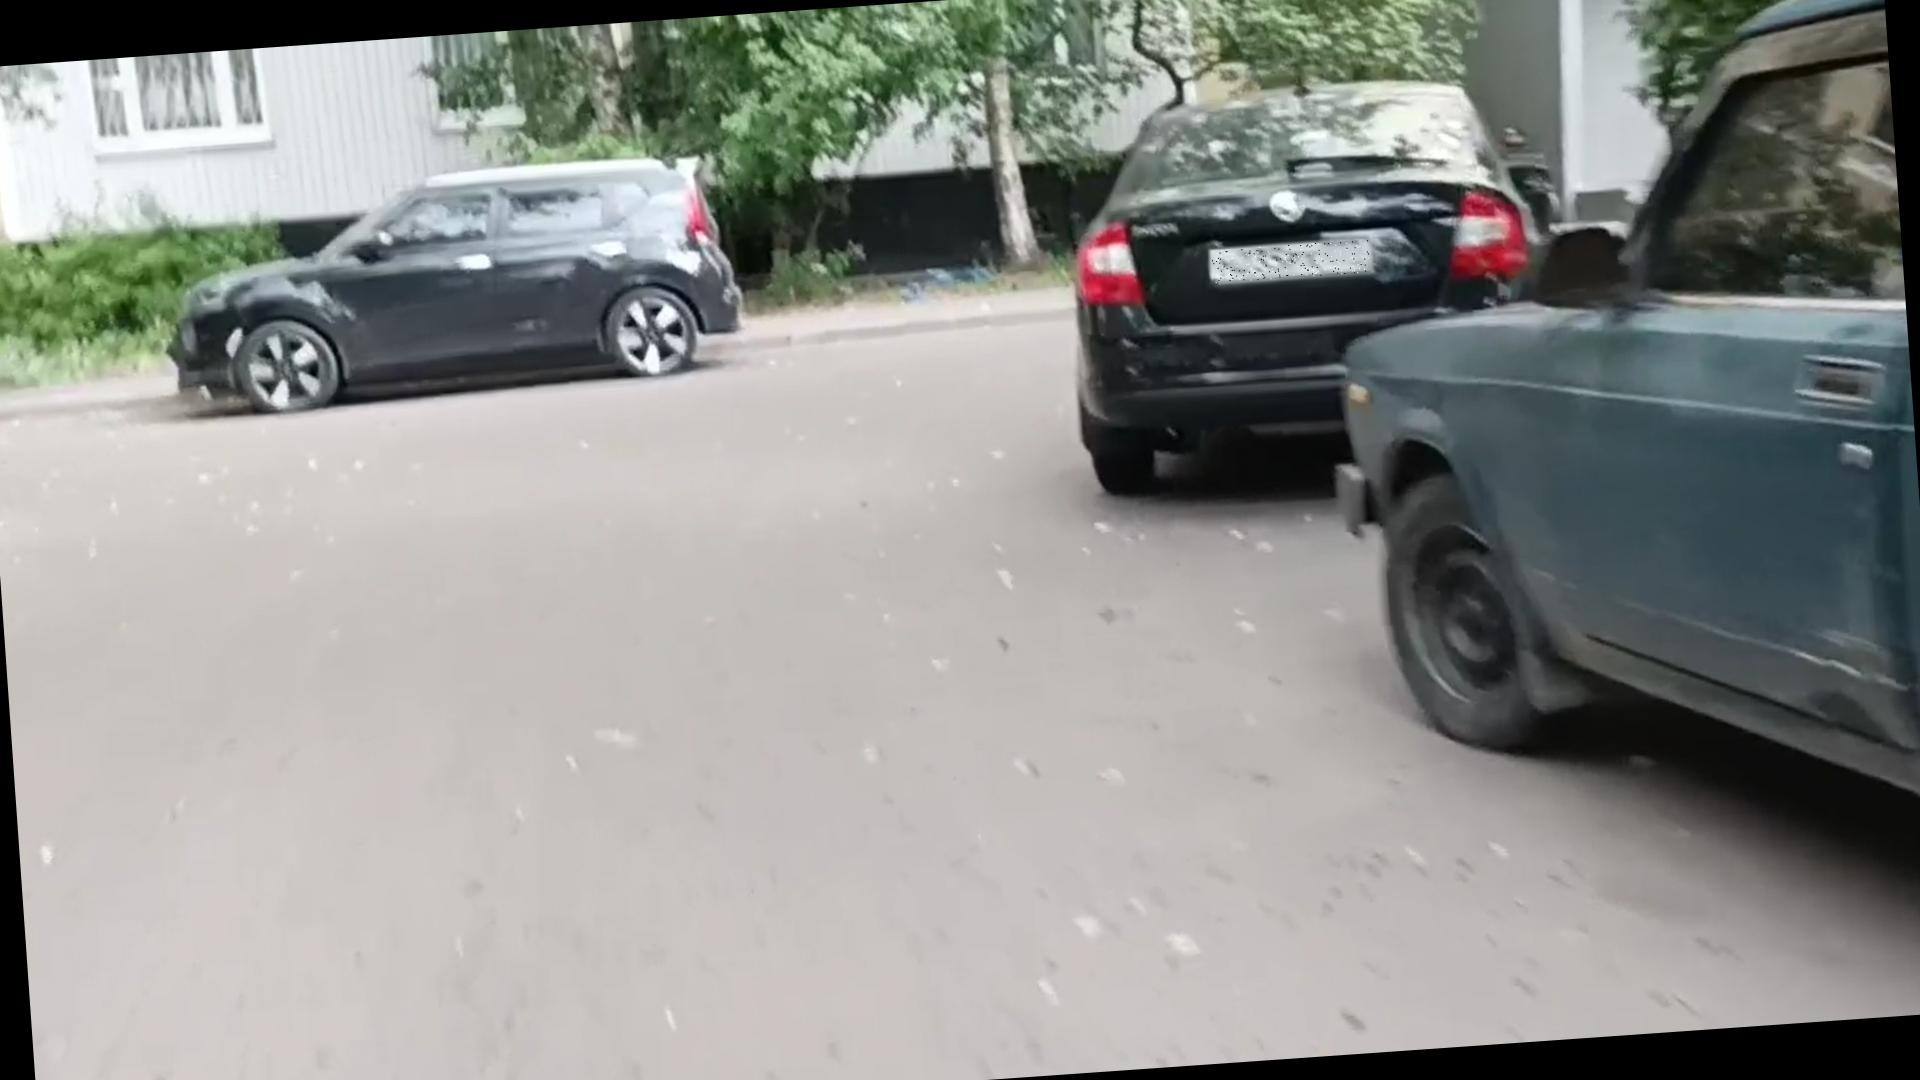plate: (1213, 241, 1373, 285)
